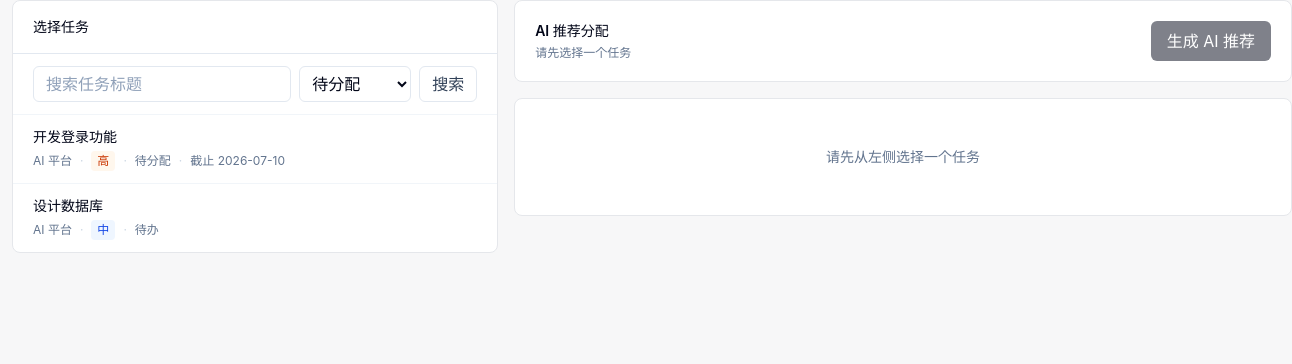
Test: AiAssignmentView › shows error when task detail loading fails
Click the button "开发登录功能 AI 平台 · 高 · 待分配 · 截止 2026-07-10": (75, 136) [13, 115, 497, 184]
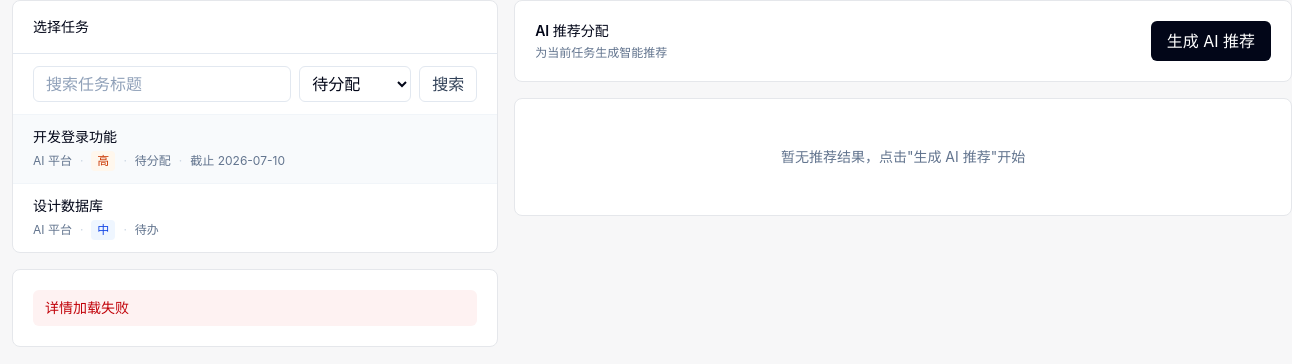
Expected: the text "详情加载失败" is shown, [33, 290, 477, 326]
